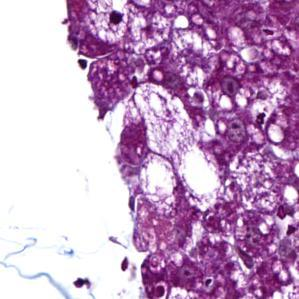ballooning: (135, 82, 196, 158), (86, 4, 133, 45)
